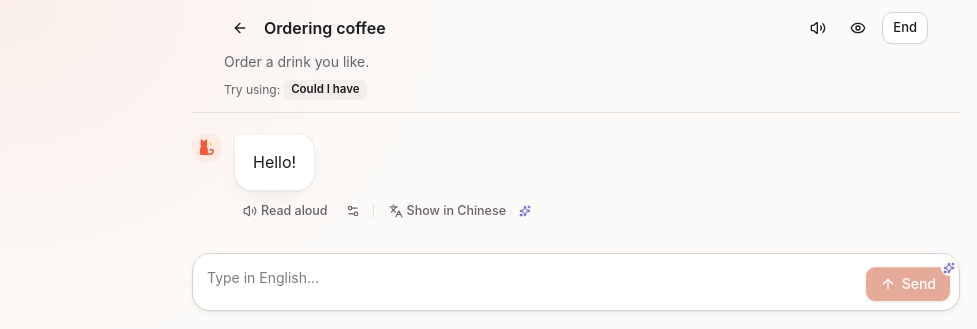
SpeakingSessionPage › shows the summary when the practice ended elsewhere
In the text box: (529, 282) [201, 262, 857, 302], type "Hi."
Then press Enter
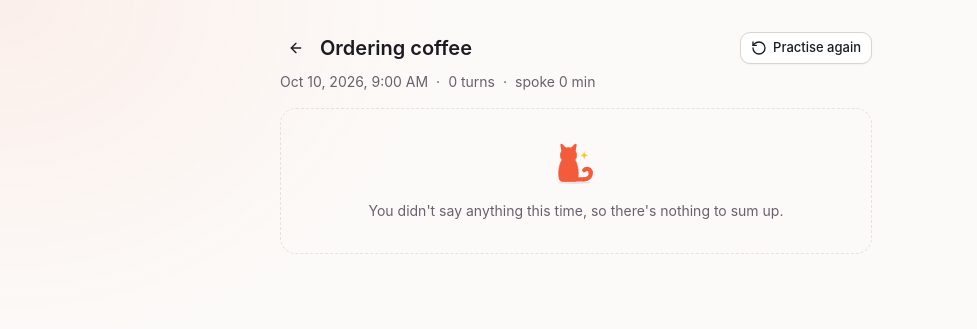
Expected: the element with test id "speaking-summary" is shown, [240, 0, 912, 286]
